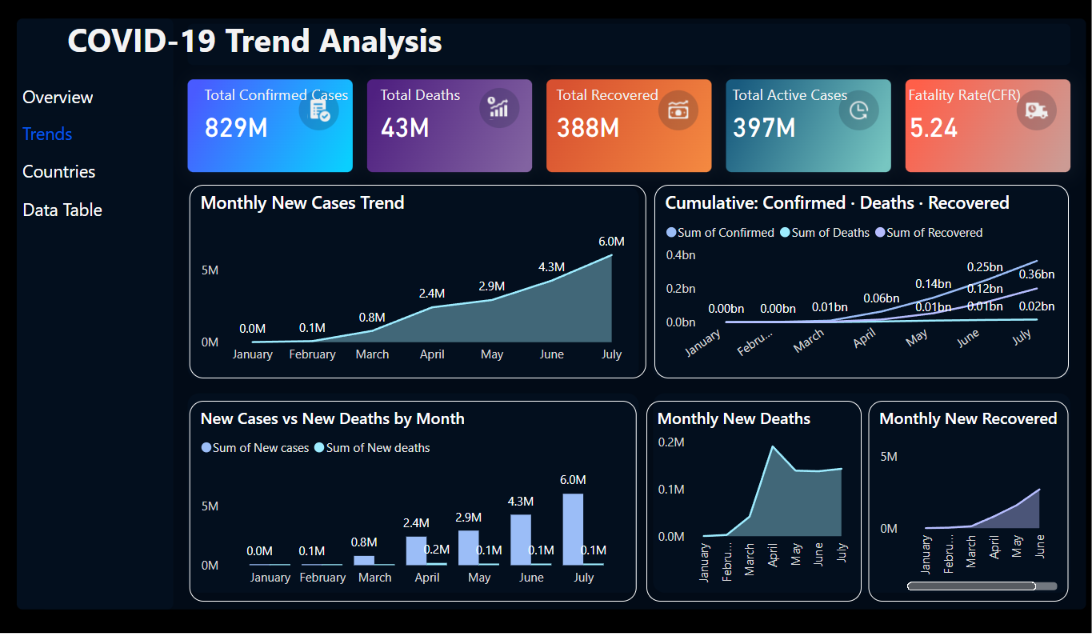

The dashboard page shown, as its layout file describes it:
{"tool":"powerbi","page":{"name":"Trends","canvas":[1920,1080],"ordinal":1},"visuals":[{"type":"cardVisual","fields":{"Data":["full_grouped.Total Confirmed Cases","full_grouped.Total Deaths","full_grouped.Total Recovered","full_grouped.Total Active Cases","full_grouped.Fatality Rate(CFR)"]},"box":[329.7,120.2,1540.1,163.6],"z":0},{"type":"areaChart","title":"Monthly New Cases Trend","fields":{"Category":["full_grouped.Date.Variation.Date Hierarchy.Year","full_grouped.Date.Variation.Date Hierarchy.Month","full_grouped.Date.Variation.Date Hierarchy.Day"],"Y":["Sum(full_grouped.New cases)"]},"box":[333.1,320.6,797.1,323.9],"z":1000},{"type":"lineChart","title":"Cumulative: Confirmed · Deaths · Recovered","fields":{"Category":["full_grouped.Date.Variation.Date Hierarchy.Year","full_grouped.Date.Variation.Date Hierarchy.Month","full_grouped.Date.Variation.Date Hierarchy.Day"],"Y":["Sum(full_grouped.Confirmed)","Sum(full_grouped.Deaths)","Sum(full_grouped.Recovered)"]},"box":[1144.2,320.6,722.1,323.9],"z":2000},{"type":"clusteredColumnChart","title":"New Cases vs New Deaths by Month","fields":{"Category":["full_grouped.Date.Variation.Date Hierarchy.Year","full_grouped.Date.Variation.Date Hierarchy.Month","full_grouped.Date.Variation.Date Hierarchy.Day"],"Y":["Sum(full_grouped.New cases)","Sum(full_grouped.New deaths)"]},"box":[333.1,681.3,779.7,335.6],"z":3000},{"type":"areaChart","title":"Monthly New Deaths","fields":{"Category":["full_grouped.Date.Variation.Date Hierarchy.Year","full_grouped.Date.Variation.Date Hierarchy.Month","full_grouped.Date.Variation.Date Hierarchy.Day"],"Y":["Sum(full_grouped.New deaths)"]},"box":[1130.2,681.3,375,335.6],"z":4000},{"type":"areaChart","title":"Monthly New Recovered","fields":{"Category":["full_grouped.Date.Variation.Date Hierarchy.Year","full_grouped.Date.Variation.Date Hierarchy.Month","full_grouped.Date.Variation.Date Hierarchy.Day"],"Y":["Sum(full_grouped.New recovered)"]},"box":[1517.4,681.3,348.8,335.6],"z":5000},{"type":"image","box":[50.3,35.4,66.6,70.7],"z":6000},{"type":"actionButton","box":[35,143,270,58],"z":7000},{"type":"actionButton","box":[35,206,270,58],"z":8000},{"type":"actionButton","box":[35,269,270,58],"z":9000},{"type":"actionButton","box":[35,332,270,58],"z":10000},{"type":"textbox","box":[340,33,1520,55],"z":11000}]}

Visuals, with their boxes on the page's 1920x1080 design canvas (x1, y1, x2, y2). These are canvas units, not pixel positions in the 1092x634 screenshot, which may show the page scaled, cropped or inside an application window:
cardVisual - full_grouped.Total Confirmed Cases x full_grouped.Total Deaths: 330,120,1870,284
"Monthly New Cases Trend" areaChart: 333,321,1130,644
"Cumulative: Confirmed · Deaths · Recovered" lineChart: 1144,321,1866,644
"New Cases vs New Deaths by Month" clusteredColumnChart: 333,681,1113,1017
"Monthly New Deaths" areaChart: 1130,681,1505,1017
"Monthly New Recovered" areaChart: 1517,681,1866,1017
image: 50,35,117,106
actionButton: 35,143,305,201
actionButton: 35,206,305,264
actionButton: 35,269,305,327
actionButton: 35,332,305,390
textbox: 340,33,1860,88
